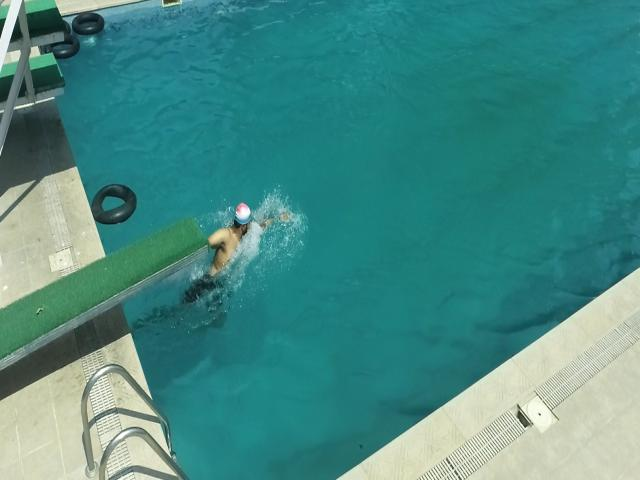swimming: (174, 196, 288, 330)
